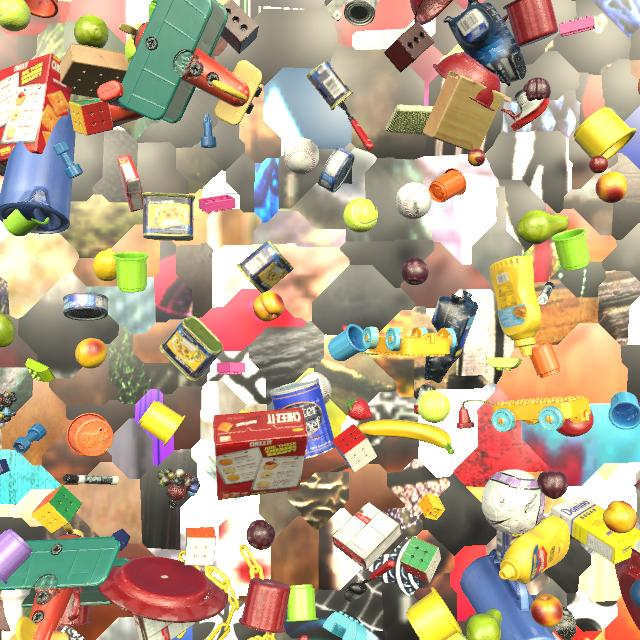ycb_002_master_chef_can: (269, 378, 335, 459)
ycb_003_cracker_box: (0, 53, 72, 176), (213, 407, 308, 500)
ycb_004_sugar_box: (551, 496, 640, 564)
ycb_005_tomato_soup_can: (344, 0, 377, 26)
ycb_006_mustard_bottle: (489, 255, 542, 357), (499, 515, 570, 584)
ycb_007_tuna_fish_can: (318, 146, 355, 193), (63, 292, 109, 321)
ycb_008_pudding_box: (332, 502, 402, 570), (133, 614, 195, 640)
ycb_009_gelatin_box: (117, 154, 143, 212), (634, 479, 640, 491)
ycb_010_potted_meat_can: (159, 316, 223, 381), (236, 240, 294, 293), (141, 192, 195, 241), (307, 60, 353, 111), (497, 516, 547, 561)
ycb_011_banana: (358, 419, 454, 455)
ycb_012_strawberry: (346, 398, 372, 421)
ycb_013_apple: (557, 408, 594, 437)
ycb_014_lemon: (93, 248, 117, 281)
ycb_015_peach: (603, 500, 637, 533), (530, 594, 563, 627), (75, 338, 107, 369), (595, 172, 627, 203), (253, 291, 284, 322)
ycb_016_pear: (516, 210, 569, 245), (74, 15, 109, 48), (466, 609, 502, 640), (0, 313, 15, 347)
ycb_017_orange: (638, 79, 640, 95)
ycb_018_plum: (537, 470, 568, 499), (246, 519, 275, 550), (401, 257, 429, 285), (523, 77, 551, 101)
